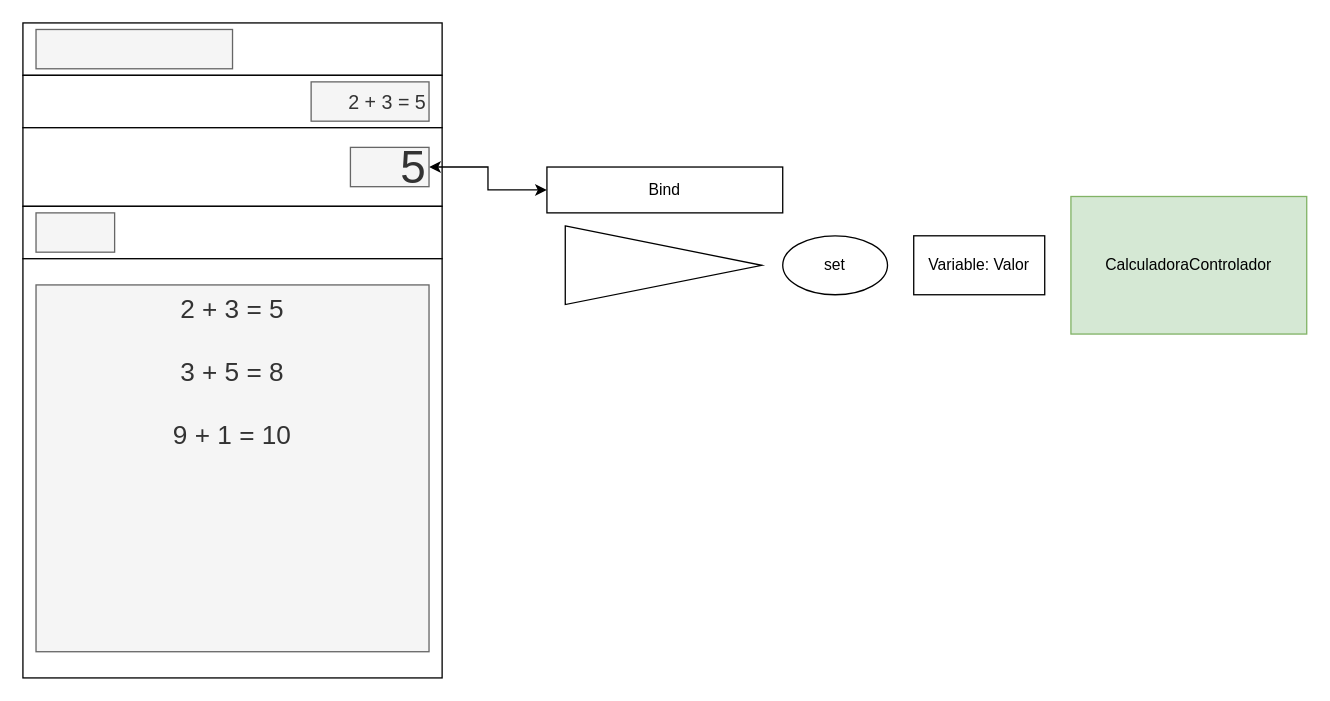
The diagram is 1330 pixels wide and 701 high, and some of its shapes have lost their labels. The shapes that lost their labels are listed below. From the top down, each one's centre as x and y in pixels, then its label:
At pixel 134 48: "CALCULADORA BÁSICA".
At pixel 75 232: "Historial".
At pixel 663 265: "Teclas 0 - 9".
